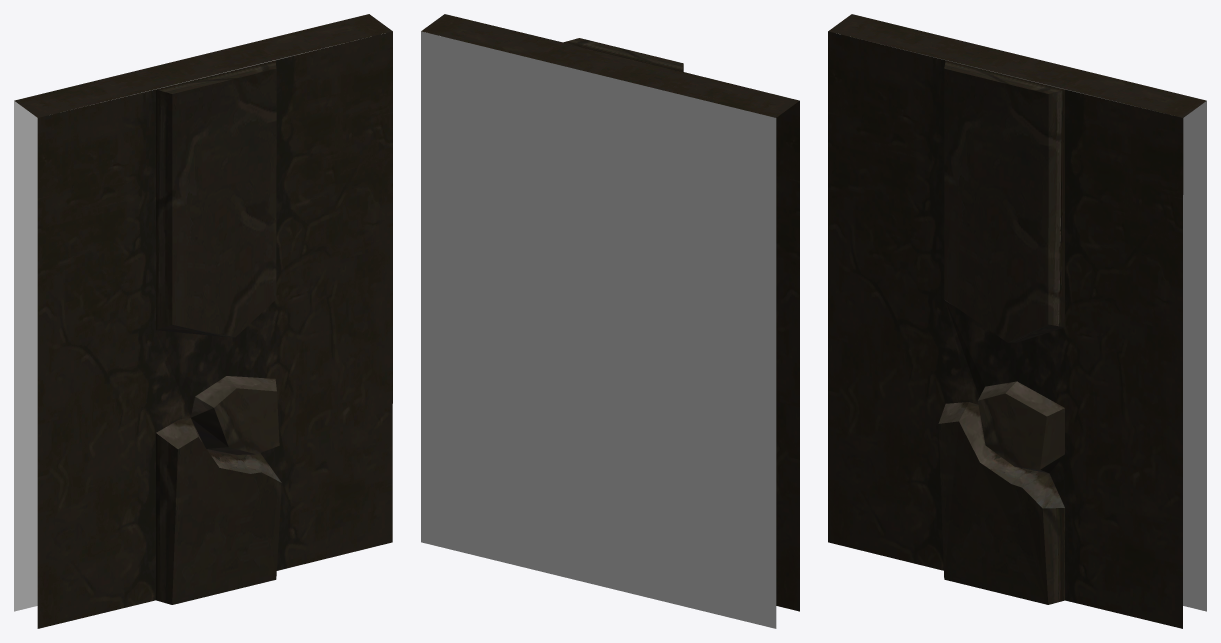
The model's file is fortress_wall_straight_02_b.fbx.
The picture shows the model from 3 angles, left to right: view 1: azimuth 30°, elevation 25°; view 2: azimuth 150°, elevation 25°; view 3: azimuth 330°, elevation 25°; orthographic projection.
Visible parts, largest first — view 1: fortress_wall_straight_02_b-0; view 2: fortress_wall_straight_02_b-0; view 3: fortress_wall_straight_02_b-0.
Part boxes in pixels (x1,y1,x2,y2): fortress_wall_straight_02_b-0: (14,14,392,628); fortress_wall_straight_02_b-0: (421,14,799,628); fortress_wall_straight_02_b-0: (828,14,1206,628).
Bounding box in the file's own units: 4 × 5.5 × 0.7887.
